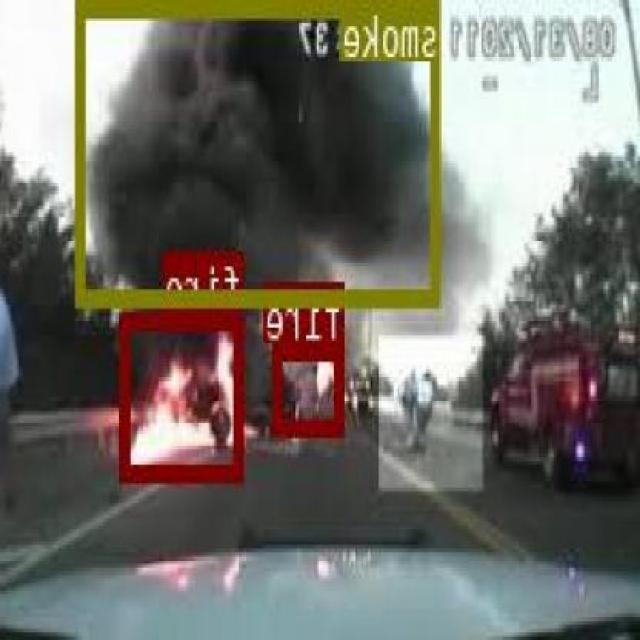Fire: (122, 309, 245, 477), (274, 341, 346, 434)
Smoke: (79, 0, 441, 305)
